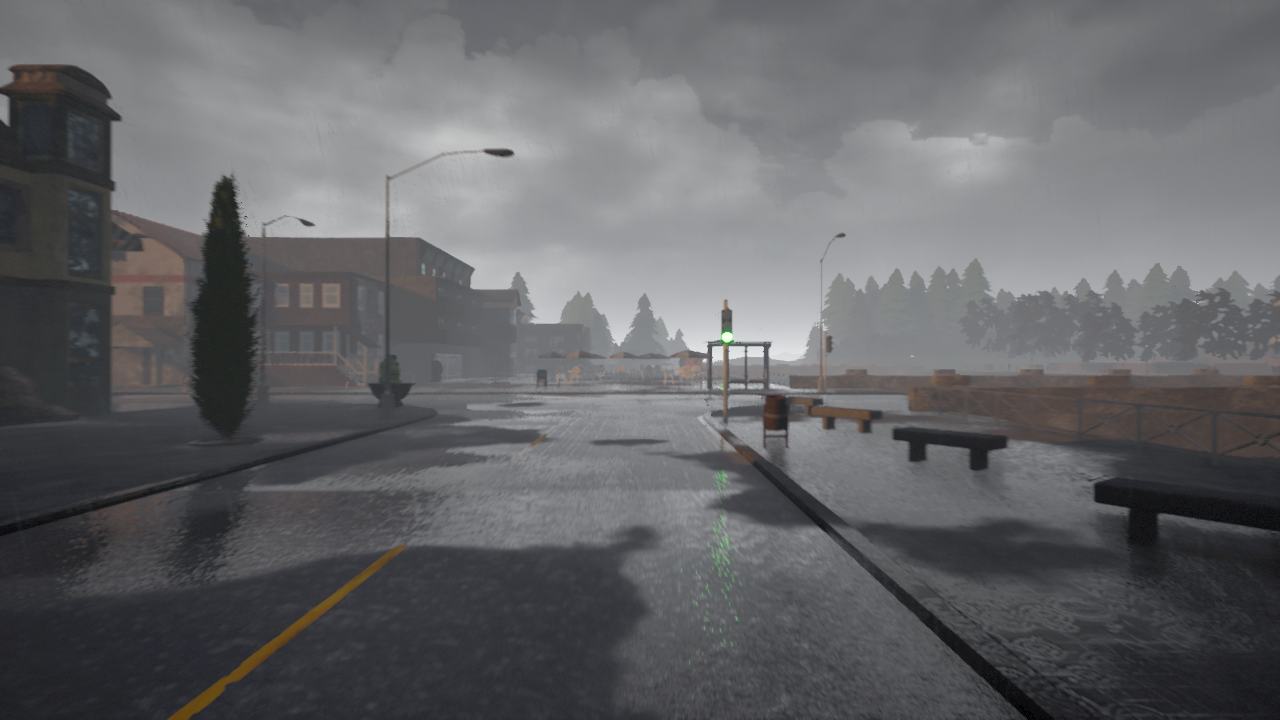green: (719, 308, 733, 344)
